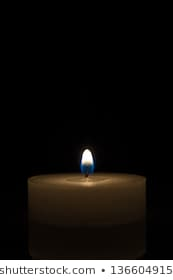Fire: (79, 147, 95, 178)
